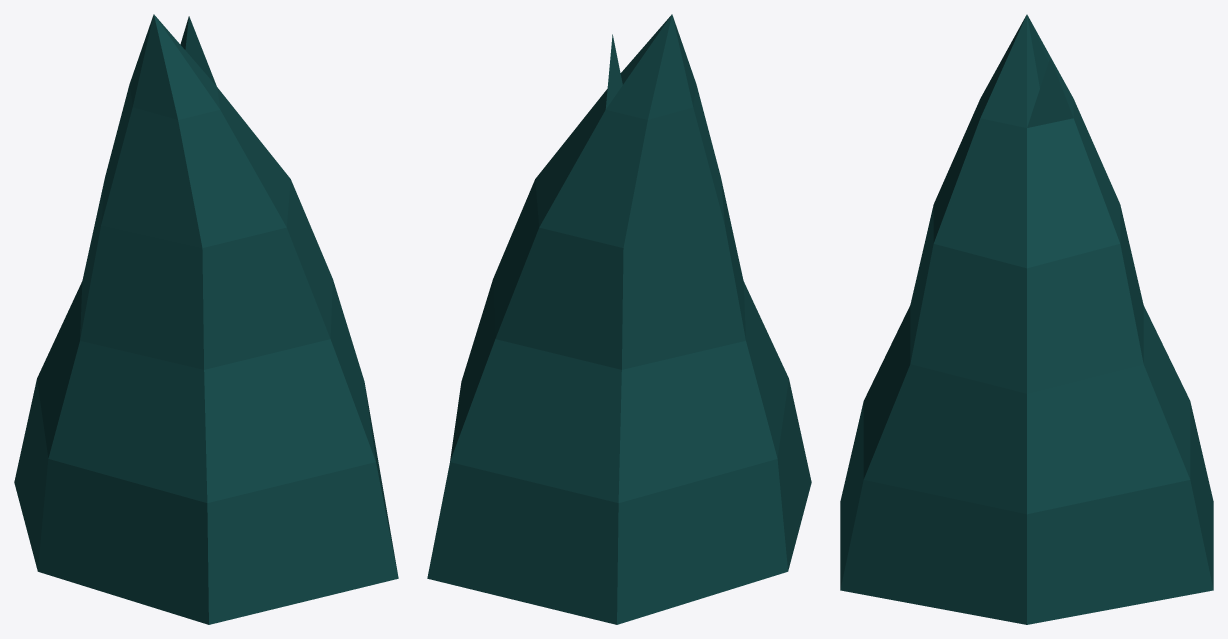
The model's file is barrier_03.glb.
3 renders of one model, left to right at view 1: azimuth 30°, elevation 25°; view 2: azimuth 150°, elevation 25°; view 3: azimuth 270°, elevation 25°, orthographic. The views are drawn at different scales.
Parts seen in each view (by area): view 1: cylinder; view 2: cylinder; view 3: cylinder.
Part boxes in pixels (box(x1,y1,x2,y2)): cylinder: box(14, 14, 398, 624); cylinder: box(427, 14, 811, 624); cylinder: box(840, 14, 1213, 624).
Bounding box in the file's own units: 2 × 3 × 2.
Materials: 1 (1 with a texture image).
